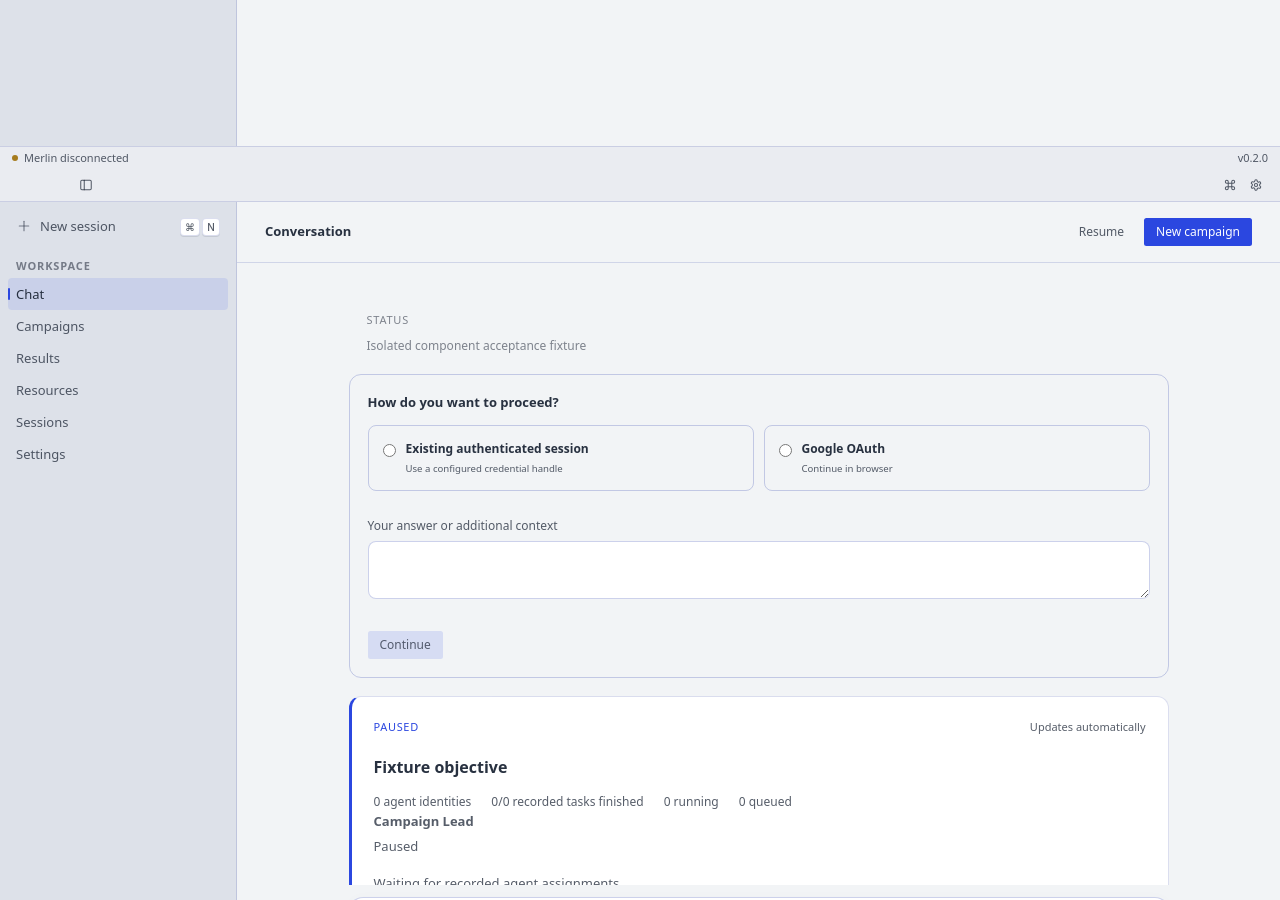
Test: restores generic pending choices from the snapshot and submits exact IDs
The width and height of the screenshot is (1280, 900).
(page scrolled)
What coordinates should you click on to do the following:
click the radio button labelled "Existing authenticated session"
I would click on:
 (389, 450)
Its box is [382,444,396,457].
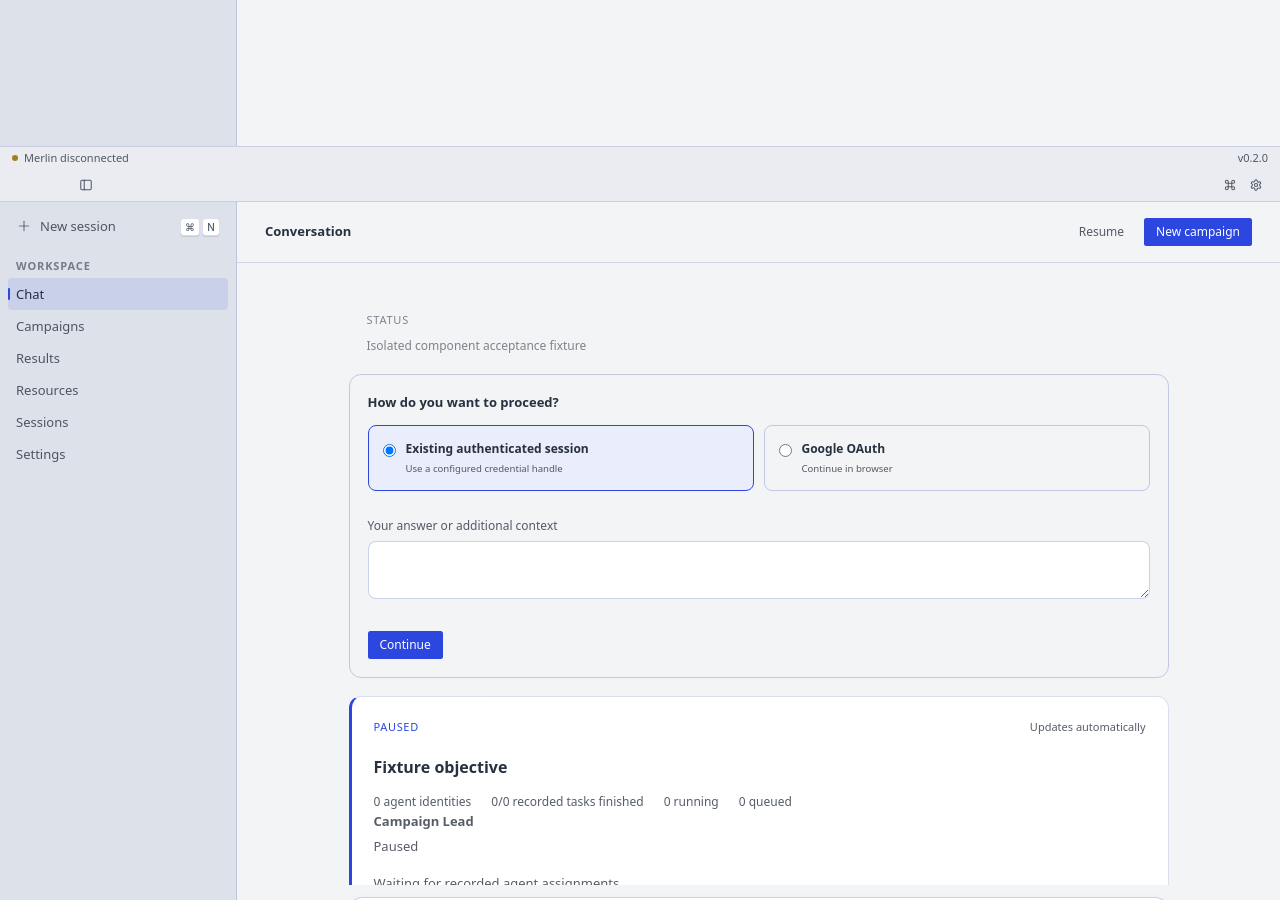
What coordinates should you click on to do the following:
click the button "Continue"
I would click on:
 (405, 645)
Its box is [368,631,443,659].
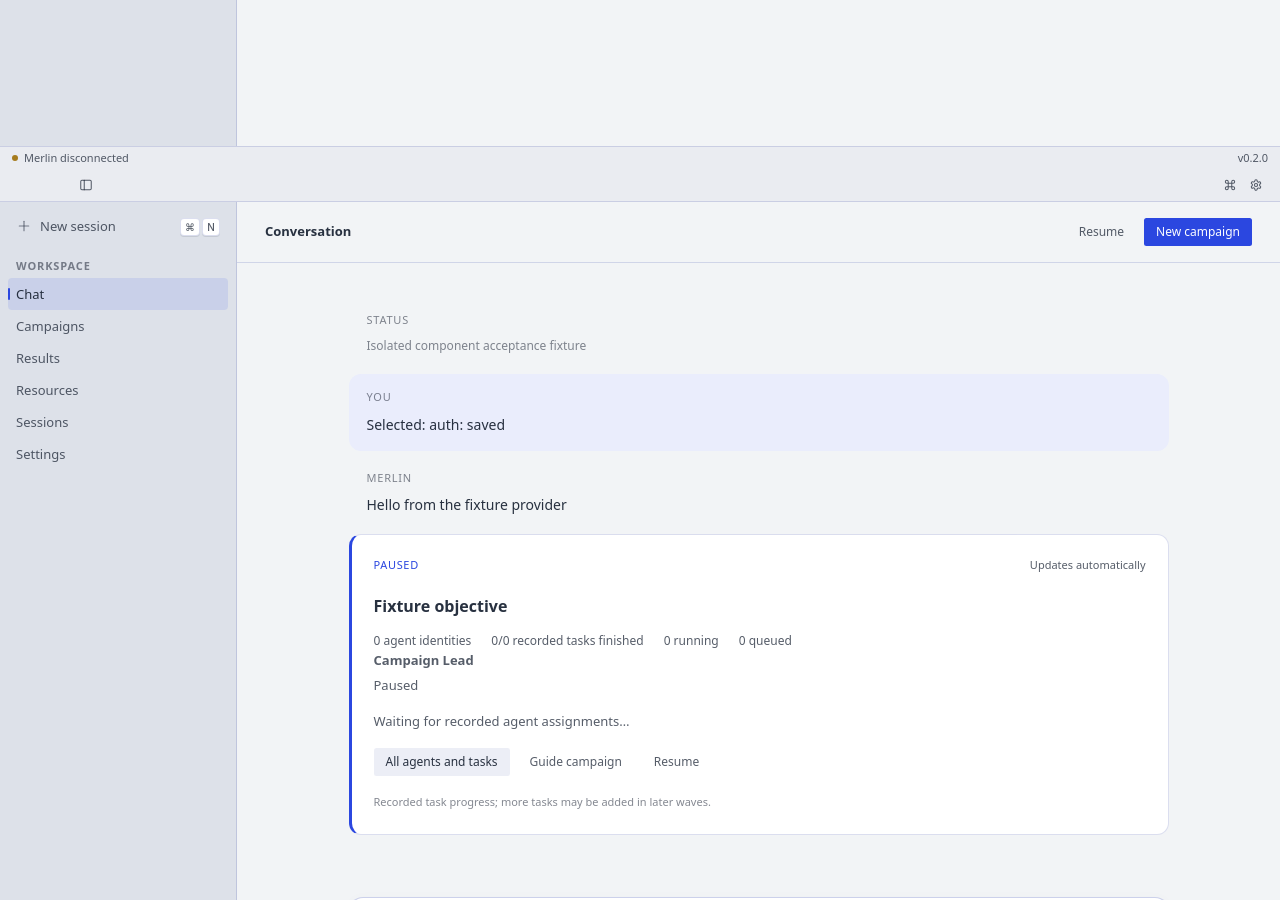
expect the text "Continue" is gone: met
